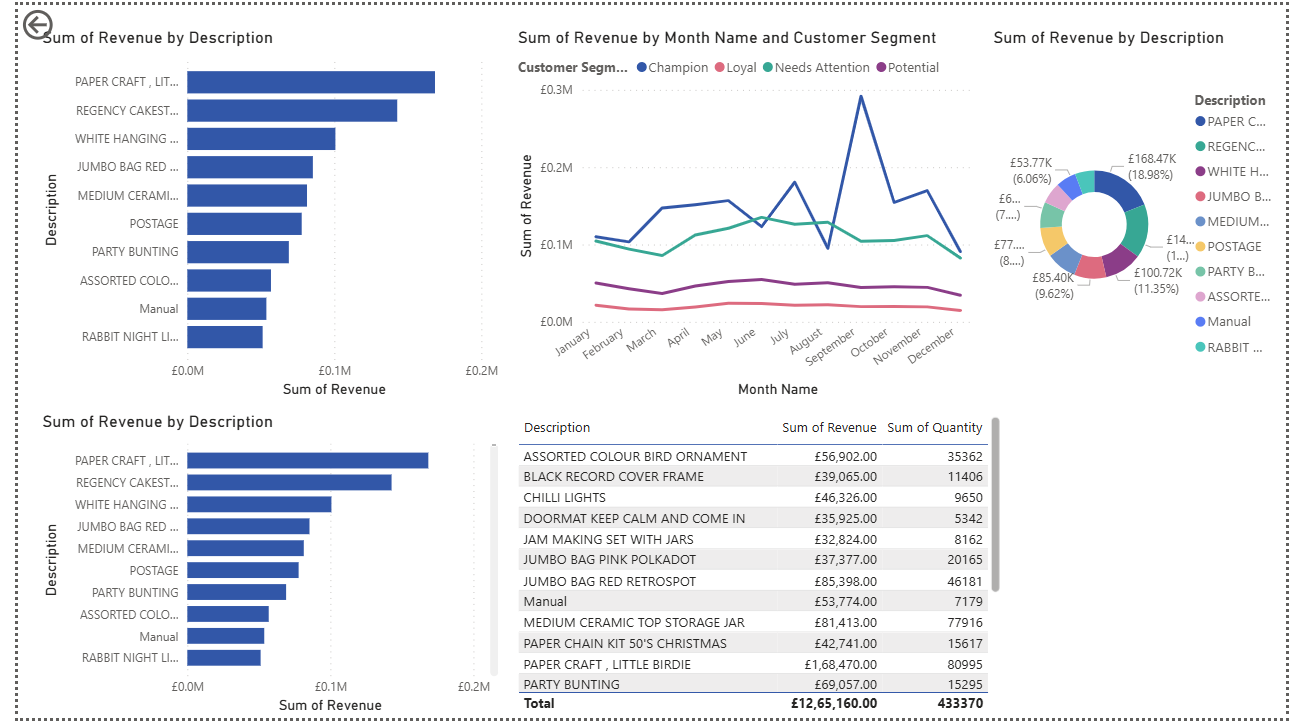

This screenshot's page, from the dashboard's own definition file:
{"tool":"powerbi","page":{"name":"Product Analysis","canvas":[1280,720],"ordinal":3},"visuals":[{"type":"clusteredBarChart","fields":{"Y":["Sum(data.Revenue)"],"Category":["data.Description"]},"box":[20,22.5,470,377.5],"z":0},{"type":"clusteredBarChart","fields":{"Category":["data.Description"],"Y":["Sum(data.Revenue)"]},"box":[20,411,470,309],"z":1000},{"type":"lineChart","fields":{"Category":["data.Month Name"],"Y":["Sum(data.Revenue)"],"Series":["data.Customer Segment"]},"box":[500,23,470,378],"z":2000},{"type":"tableEx","fields":{"Values":["data.Description","data.Revenue","Sum(data.Quantity)"]},"box":[500,411,470,309],"z":3000},{"type":"actionButton","box":[0,0,100,40],"z":4000},{"type":"donutChart","fields":{"Category":["data.Description"],"Y":["Sum(data.Revenue)"]},"box":[980,23,300,378],"z":5000}]}

Visuals, with their boxes in screenshot pixels (x1, y1, x2, y2), scaled from the page's 1280x720 canvas onto the 1300x727 screenshot:
clusteredBarChart - Sum(data.Revenue) x data.Description: pyautogui.locateOnScreen(20, 23, 498, 404)
clusteredBarChart - data.Description x Sum(data.Revenue): pyautogui.locateOnScreen(20, 415, 498, 726)
lineChart - data.Month Name x Sum(data.Revenue): pyautogui.locateOnScreen(508, 23, 985, 405)
tableEx - data.Description x data.Revenue: pyautogui.locateOnScreen(508, 415, 985, 726)
actionButton: pyautogui.locateOnScreen(0, 0, 102, 40)
donutChart - data.Description x Sum(data.Revenue): pyautogui.locateOnScreen(995, 23, 1299, 405)
